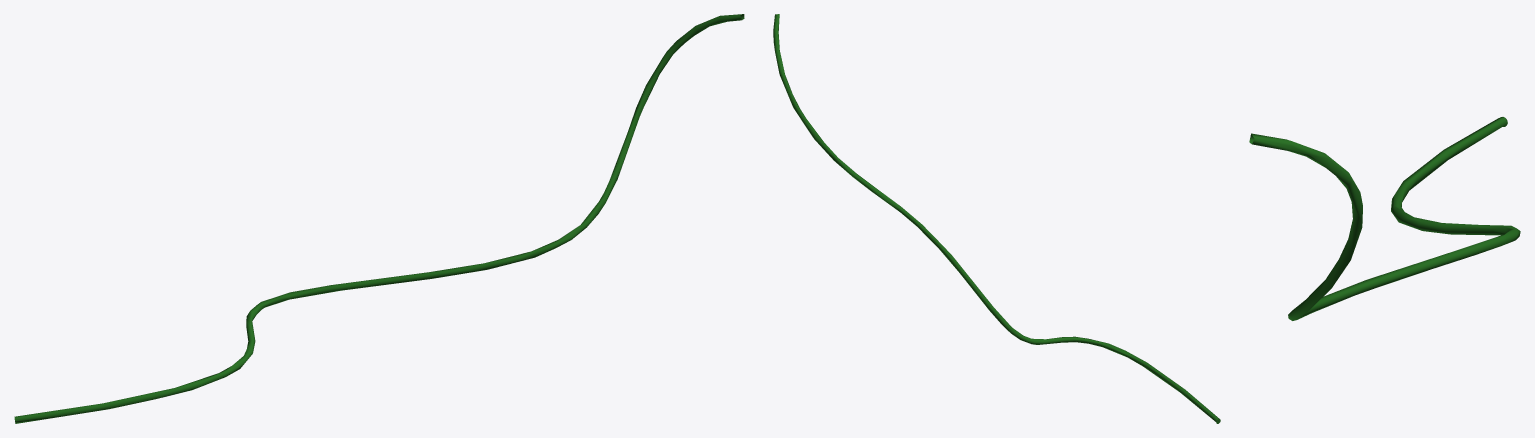
The model's file is Vines04.fbx.
3 views of the same model, side by side, from view 1: azimuth 30°, elevation 25°; view 2: azimuth 150°, elevation 25°; view 3: azimuth 270°, elevation 25° (orthographic). The views are drawn at different scales.
Visible parts, largest first — view 1: Vine.004; view 2: Vine.004; view 3: Vine.004.
Boxes of the visible parts, left/top/right/bottom form: Vine.004: left=14, top=14, right=744, bottom=423; Vine.004: left=773, top=14, right=1220, bottom=423; Vine.004: left=1249, top=117, right=1520, bottom=320.
Bounding box in the file's own units: 433 × 197 × 100.
